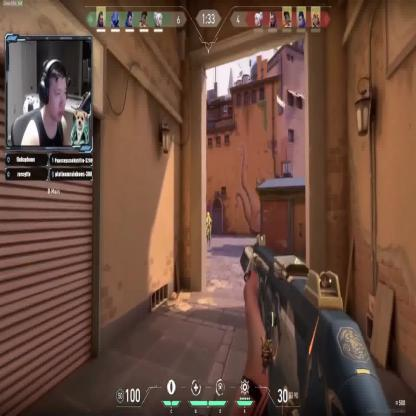enemy: (204, 212, 212, 247)
enemy_head: (206, 211, 210, 218)
